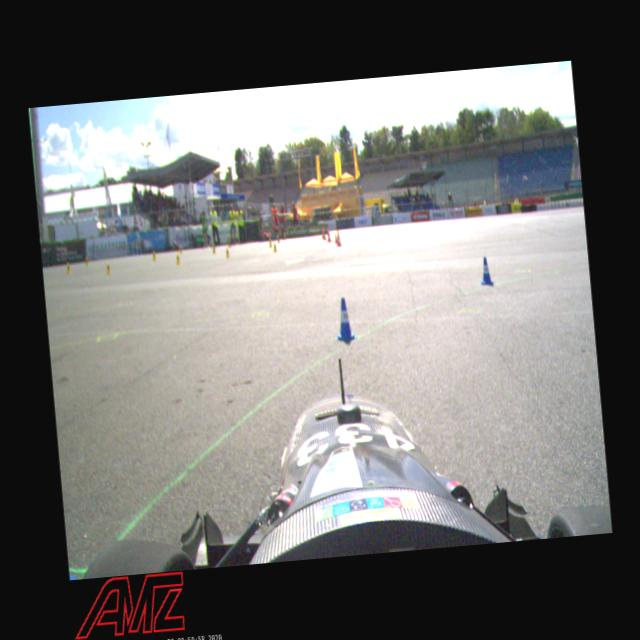blue_cone: (332, 296, 358, 343), (478, 256, 494, 286)
large_orange_cone: (334, 228, 342, 246), (326, 226, 332, 242), (320, 226, 326, 238)
orange_cone: (333, 234, 338, 244), (322, 233, 326, 240)
yellow_cone: (64, 262, 70, 274), (104, 262, 110, 274), (174, 252, 180, 264), (224, 246, 229, 258), (151, 250, 156, 260), (272, 241, 277, 251), (268, 238, 272, 247), (212, 244, 216, 253), (85, 256, 88, 266), (277, 235, 280, 243)
